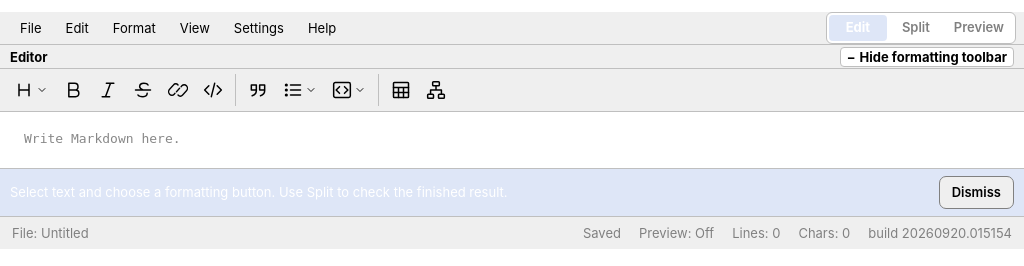
document session safety › mounts with a visible, usable formatting toolbar when the localStorage getter throws
This screenshot has width=1024, height=266.
Expected: the element with id "formatting-toolbar-region" is shown, [0, 69, 1023, 112]
Click the button with class "formatting-toolbar-toggle": (927, 56) [840, 46, 1014, 66]
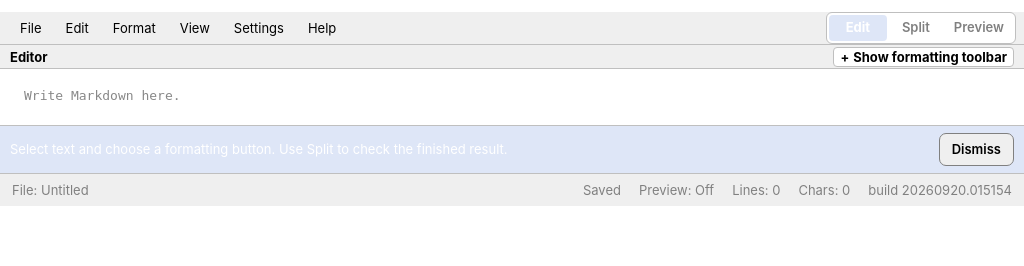
Expected: the button with class "formatting-toolbar-toggle" is collapsed, [833, 46, 1014, 66]
